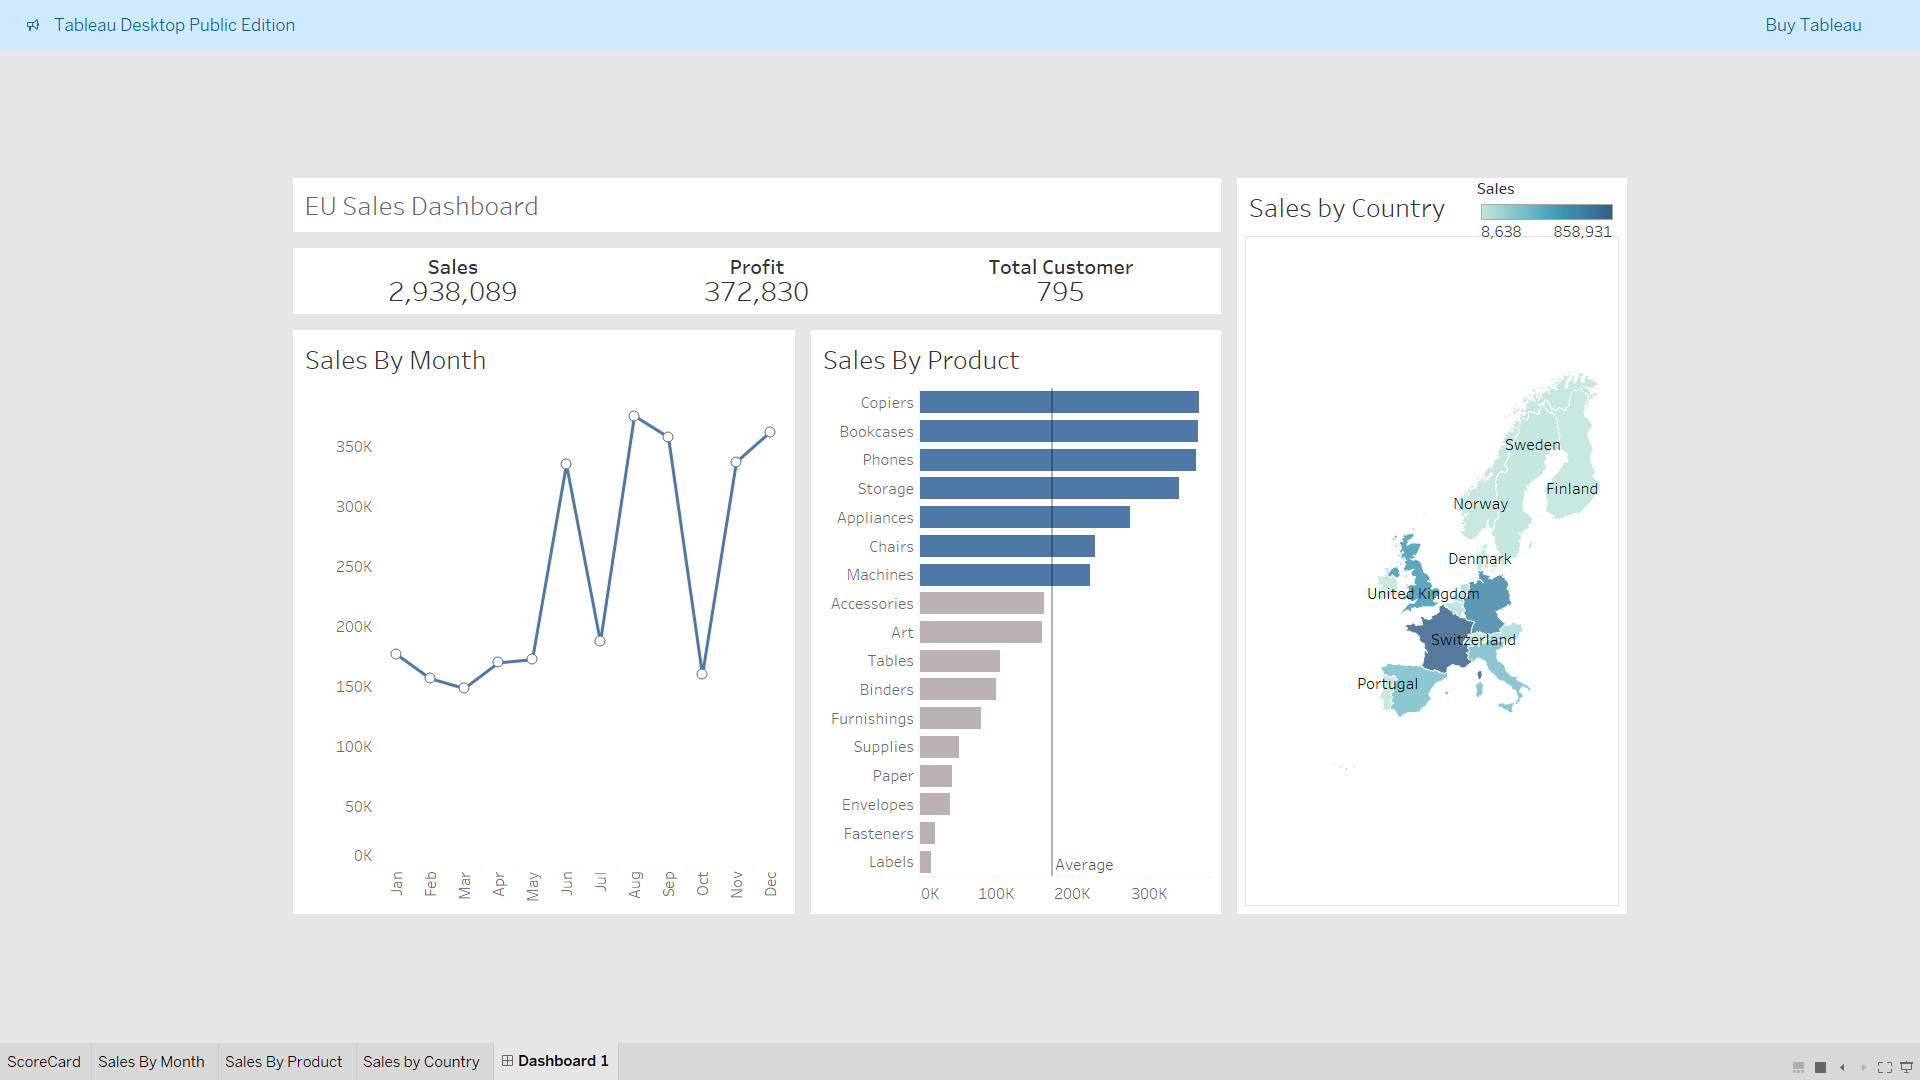

Layout of this report page (visuals, bound fields, positions):
{"tool":"tableau","page":{"name":"Dashboard 1","canvas":[1366,768],"ordinal":0},"visuals":[{"type":"text","box":[8,8,944.4,70]},{"type":"worksheet","title":"Sales by Country","mark":"Automatic","box":[952.4,8,405.6,752]},{"type":"legend","title":"Sales by Country","param":"[federated.1pp1t0a06kdvxi115f4bk1xk0v8n].[sum:Sales:qk]","box":[1200,16,140,88]},{"type":"worksheet","title":"ScoreCard","mark":"Automatic","box":[8,78,944.4,82]},{"type":"worksheet","title":"Sales By Month","mark":"Automatic","rows":["Sales","Sales"],"cols":["Order Date"],"box":[8,160,518,600]},{"type":"worksheet","title":"Sales By Product","mark":"Automatic","rows":["Sub-Category"],"cols":["Sales"],"box":[526,160,426.4,600]}]}

Visuals, with their boxes on the page's 1366x768 design canvas (x1, y1, x2, y2). These are canvas units, not pixel positions in the 1920x1080 screenshot, which may show the page scaled, cropped or inside an application window:
text: {"x1": 8, "y1": 8, "x2": 952, "y2": 78}
"Sales by Country" worksheet: {"x1": 952, "y1": 8, "x2": 1358, "y2": 760}
"Sales by Country" legend: {"x1": 1200, "y1": 16, "x2": 1340, "y2": 104}
"ScoreCard" worksheet: {"x1": 8, "y1": 78, "x2": 952, "y2": 160}
"Sales By Month" worksheet: {"x1": 8, "y1": 160, "x2": 526, "y2": 760}
"Sales By Product" worksheet: {"x1": 526, "y1": 160, "x2": 952, "y2": 760}
